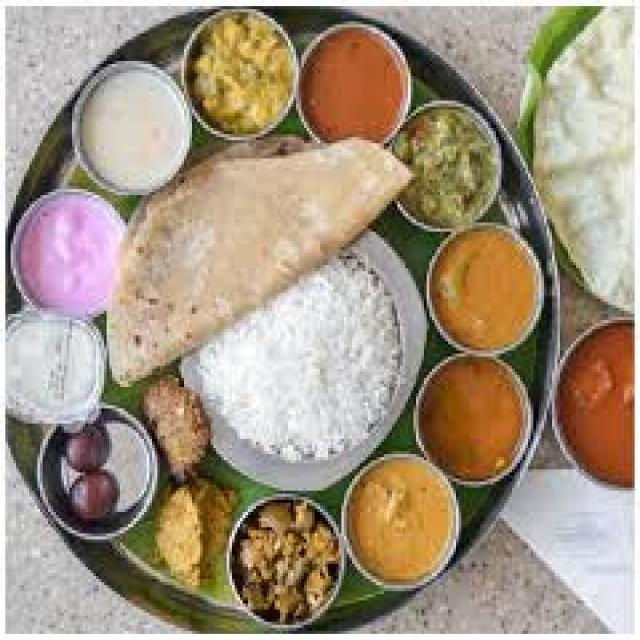curd: (67, 62, 197, 193), (7, 319, 111, 424)
dal: (421, 225, 552, 359)
dosa: (122, 127, 423, 340)
rice: (206, 254, 413, 477)
sambar-rasam: (294, 19, 419, 150), (423, 228, 548, 356), (65, 69, 198, 189), (417, 355, 537, 484), (553, 321, 634, 488)
sweet: (45, 417, 152, 527)
